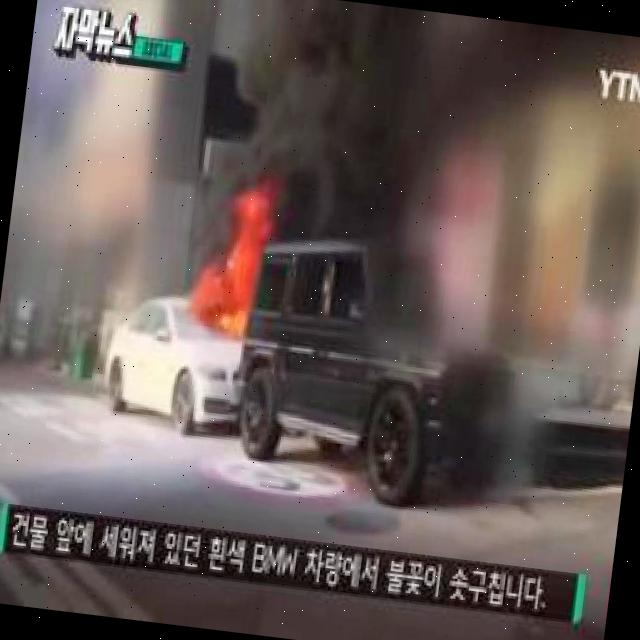fire: (198, 274, 254, 346)
